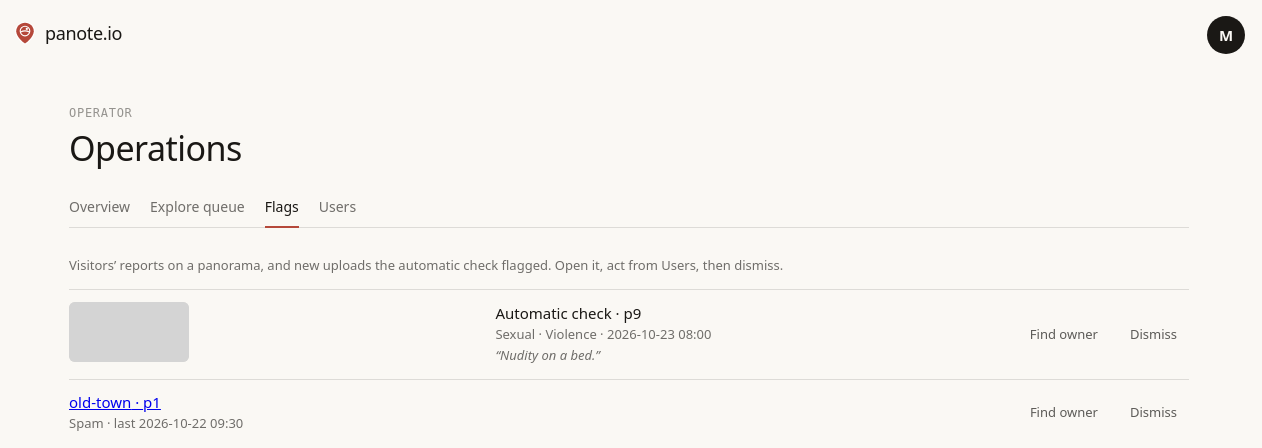
Test case: /app/ops/flags › shows an automatic-check hit with the image it checked, and opens its uploader
Expected: the text "Automatic check · p9" is shown, [495,303,641,323]
Expected: the text "Sexual · Violence · 2026-10-23 08:00" is shown, [495,325,711,344]
Click the button "Dismiss" in the row of "Automatic check ·" at (1153, 334), box [1118,320,1189,349]
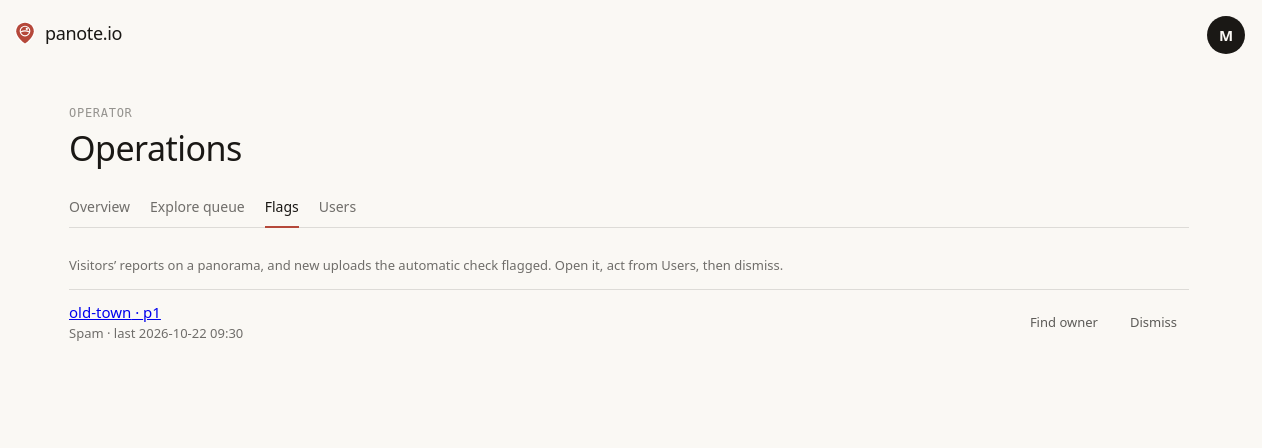
Expected: the text "Automatic check · p9" is gone
